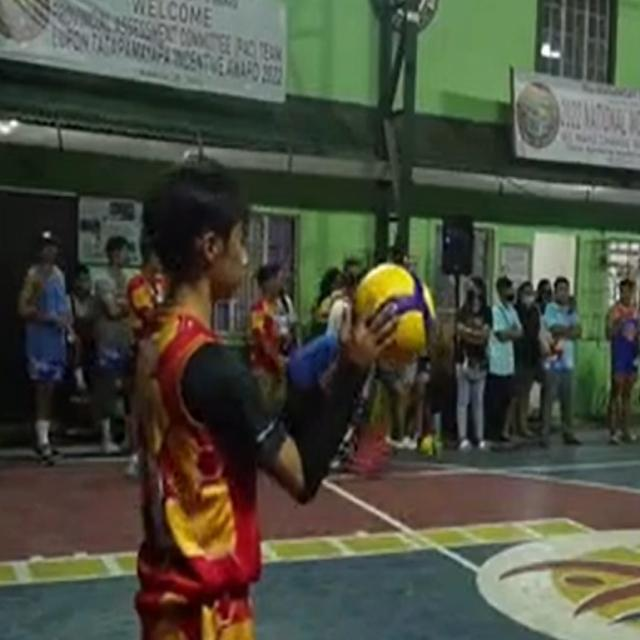volleyball: (356, 264, 434, 362)
